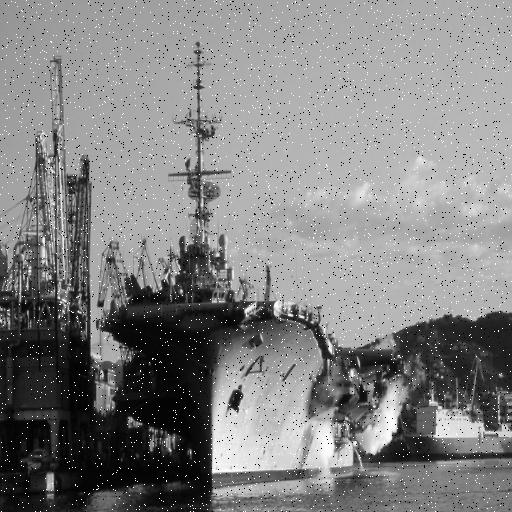Portanaves: (98, 39, 383, 500)
